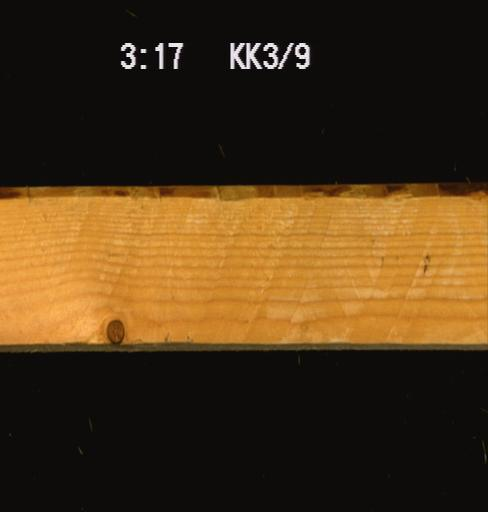edge_knot: (104, 317, 125, 345)
wave: (0, 185, 487, 207)
